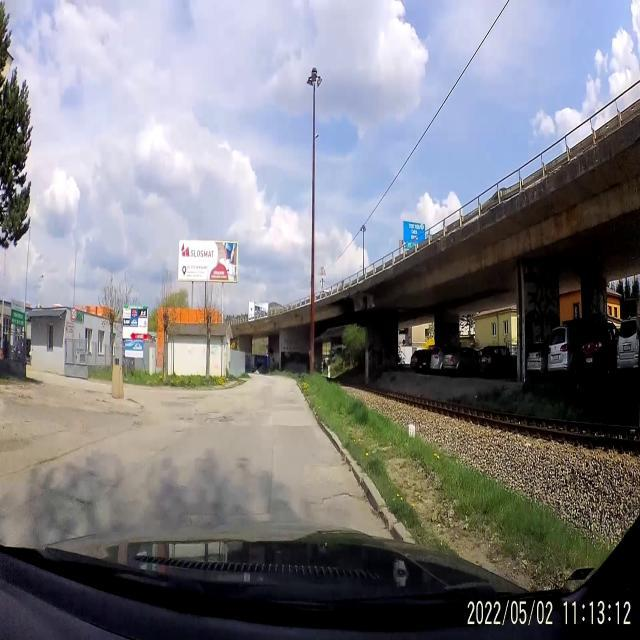Pothole: (319, 487, 364, 510), (63, 493, 97, 519), (195, 408, 235, 430), (177, 412, 195, 424), (173, 428, 186, 436)
